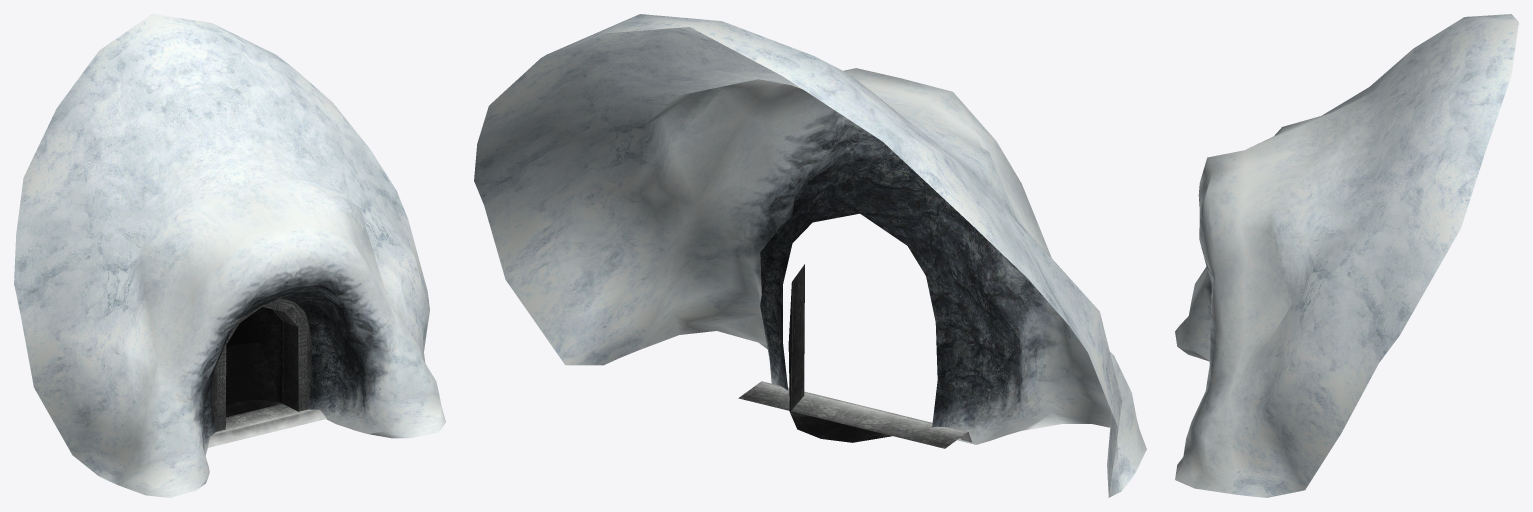
Rendered from whitdragonvalley_gate.fbx.
The picture shows the model from 3 angles, left to right: view 1: azimuth 30°, elevation 25°; view 2: azimuth 150°, elevation 25°; view 3: azimuth 270°, elevation 25°; orthographic projection. The views are drawn at different scales.
Visible parts, largest first — view 1: whitdragonvalley_gate_rock2, whitdragonvalley_gate_bilid; view 2: whitdragonvalley_gate_rock2, whitdragonvalley_gate_bilid; view 3: whitdragonvalley_gate_rock2.
Boxes of the visible parts, x1,y1,x2,y2 form: whitdragonvalley_gate_rock2: (14, 14, 445, 497); whitdragonvalley_gate_bilid: (207, 298, 326, 447); whitdragonvalley_gate_rock2: (474, 14, 1146, 497); whitdragonvalley_gate_bilid: (738, 264, 972, 448); whitdragonvalley_gate_rock2: (1175, 14, 1518, 497).
Size of the model in its own units: 30.56 by 25.19 by 20.46.
